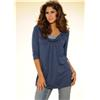maglia: (32, 25, 72, 88)
